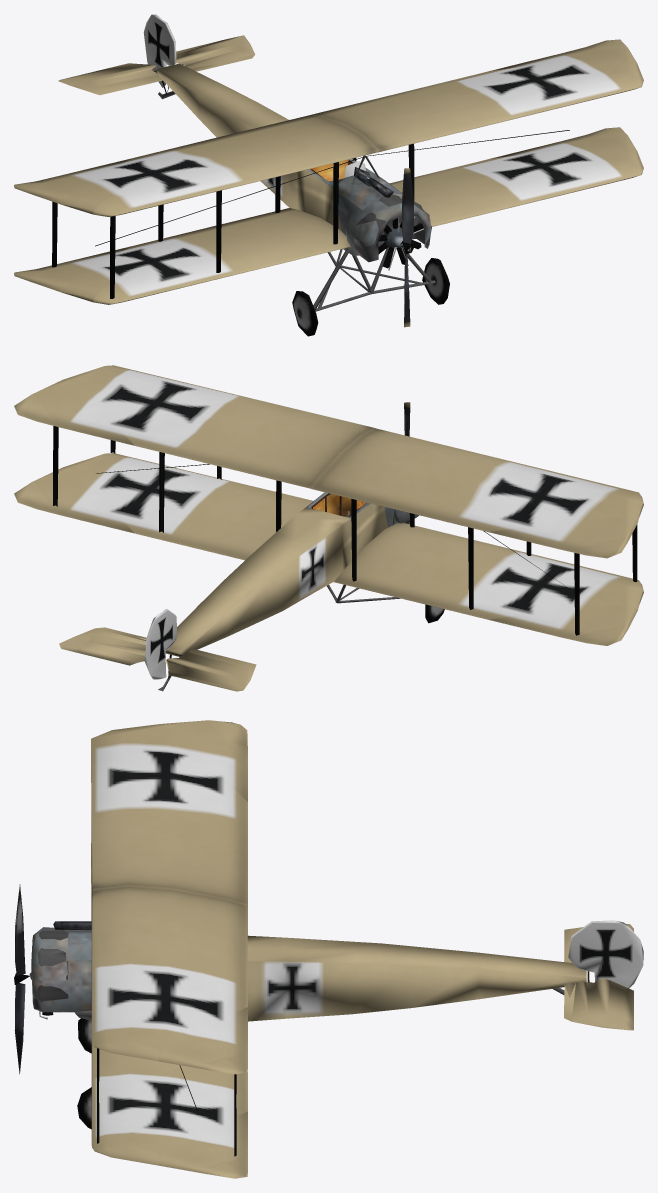
Rendered from fokkerd2.dae.
3 views of the same model, one above another, from view 1: azimuth 30°, elevation 25°; view 2: azimuth 150°, elevation 25°; view 3: azimuth 270°, elevation 25° (orthographic). The views are drawn at different scales.
Parts seen in each view (by area): view 1: base, rotor; view 2: base; view 3: base, rotor.
Part boxes in pixels (<box>): base: <box>14,14,643,336</box>; rotor: <box>402,168,414,327</box>; base: <box>14,365,643,691</box>; base: <box>29,720,643,1178</box>; rotor: <box>14,884,29,1074</box>.
Bounding box in the file's own units: 117 × 88.61 × 32.87.
Materials: 1 (1 with a texture image).
